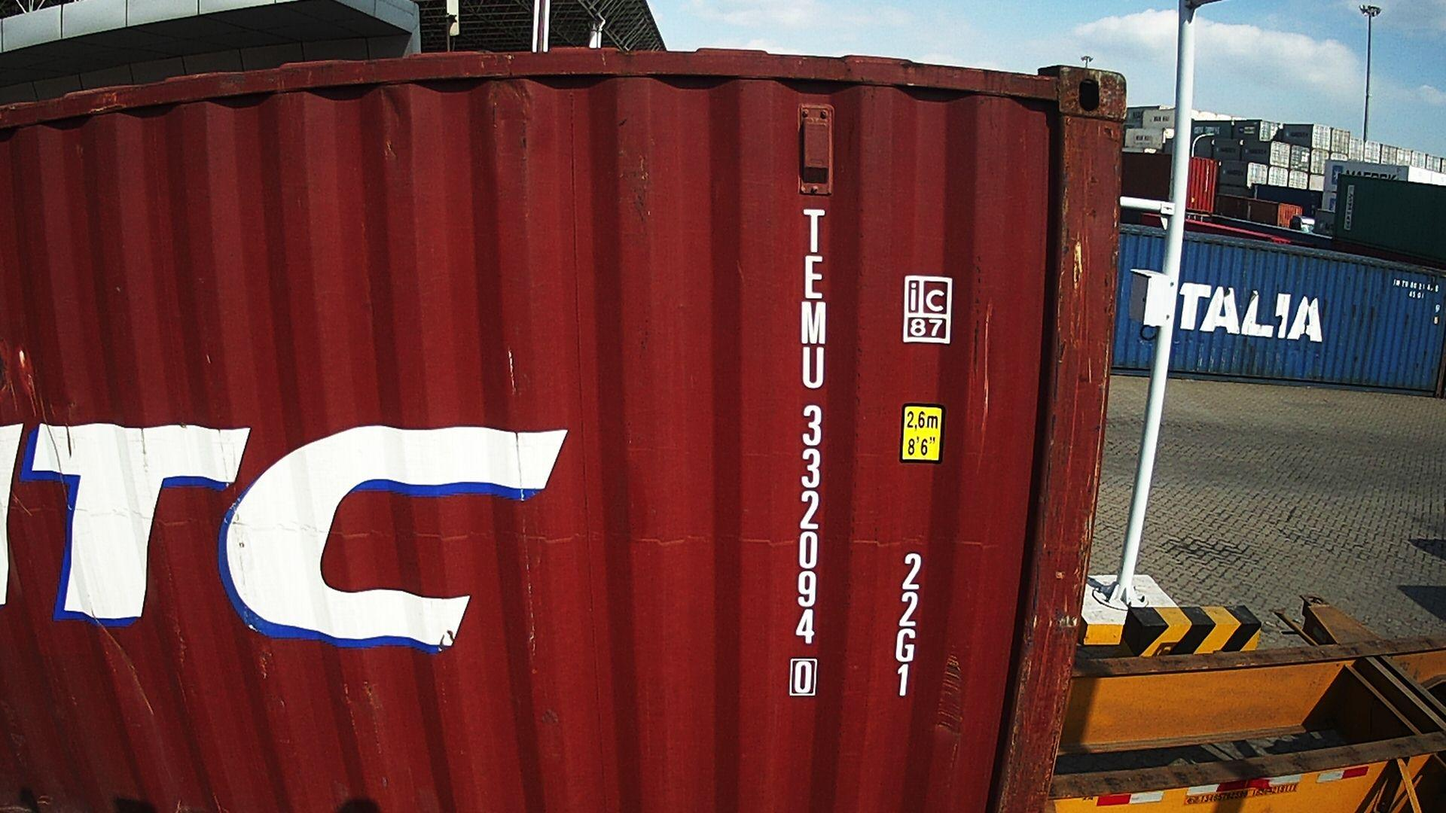container-numbers: (785, 202, 831, 702), (889, 547, 924, 705)
